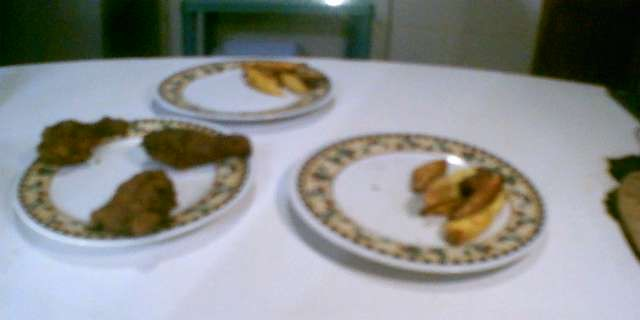chicken: (86, 163, 182, 241), (139, 115, 253, 171), (22, 113, 130, 168)
potatoe_fries: (406, 147, 512, 246), (230, 57, 334, 98)
